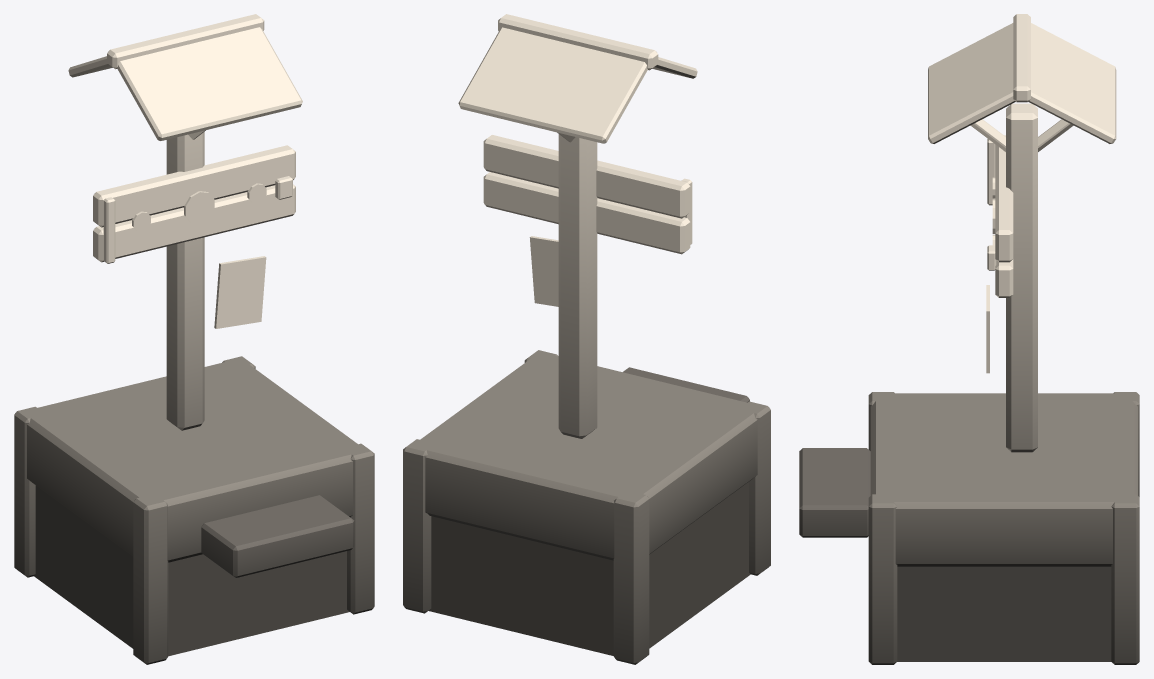
File: SM_VK_Prop_Pillory.fbx
The picture shows the model from 3 angles, left to right: view 1: azimuth 30°, elevation 25°; view 2: azimuth 150°, elevation 25°; view 3: azimuth 270°, elevation 25°; orthographic projection. The views are drawn at different scales.
Parts seen in each view (by area): view 1: SM_VK_Prop_Pillory.001; view 2: SM_VK_Prop_Pillory.001; view 3: SM_VK_Prop_Pillory.001.
Part boxes in pixels (x1=…): SM_VK_Prop_Pillory.001: x1=14, y1=14, x2=374, y2=664; SM_VK_Prop_Pillory.001: x1=403, y1=14, x2=770, y2=664; SM_VK_Prop_Pillory.001: x1=799, y1=14, x2=1139, y2=664.
Bounding box in the file's own units: 1.52 × 3.46 × 1.91.
